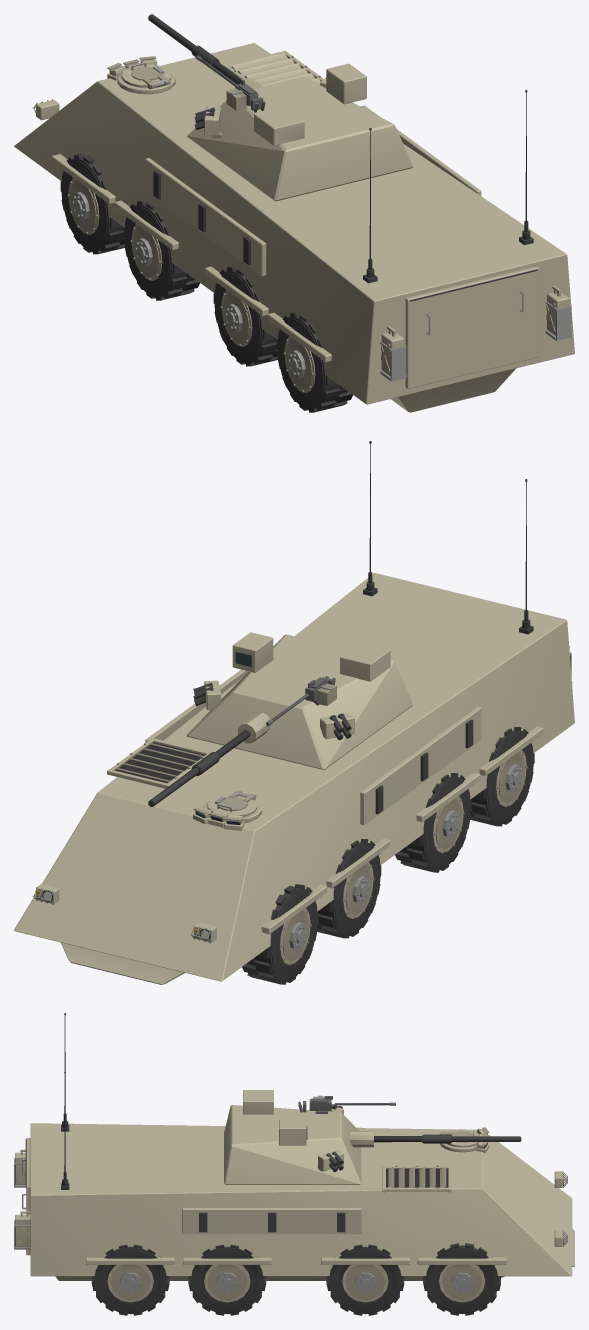
Rendered from usa_ifv_acv30.glb.
3 renders of one model, top to bottom at view 1: azimuth 30°, elevation 25°; view 2: azimuth 150°, elevation 25°; view 3: azimuth 270°, elevation 25°, orthographic. The views are drawn at different scales.
Parts seen in each view (by area): view 1: body, turret, door, wheel_2, wheel_6, wheel_0, wheel_4, barrel; view 2: body, turret, wheel_0, wheel_4, wheel_2, wheel_6, barrel; view 3: body, turret, wheel_1, wheel_3, wheel_5, wheel_7, barrel, door.
Part boxes in pixels (x1,y1,x2,y2): body: [14, 43, 574, 412]; turret: [187, 55, 413, 201]; door: [405, 266, 538, 388]; wheel_2: [123, 201, 199, 300]; wheel_6: [276, 313, 352, 412]; wheel_0: [60, 154, 124, 254]; wheel_4: [213, 267, 277, 366]; barrel: [148, 14, 263, 88]; body: [14, 441, 574, 984]; turret: [187, 632, 413, 769]; wheel_0: [242, 884, 318, 984]; wheel_4: [395, 773, 471, 872]; wheel_2: [317, 839, 381, 938]; wheel_6: [470, 726, 534, 826]; barrel: [148, 712, 271, 806]; body: [14, 1013, 574, 1280]; turret: [224, 1090, 395, 1184]; wheel_1: [423, 1243, 500, 1315]; wheel_3: [326, 1244, 404, 1315]; wheel_5: [188, 1244, 266, 1315]; wheel_7: [91, 1244, 169, 1315]; barrel: [350, 1131, 521, 1147]; door: [22, 1138, 30, 1255].
Bounding box in the file's own units: 2.88 × 3.75 × 8.13.
